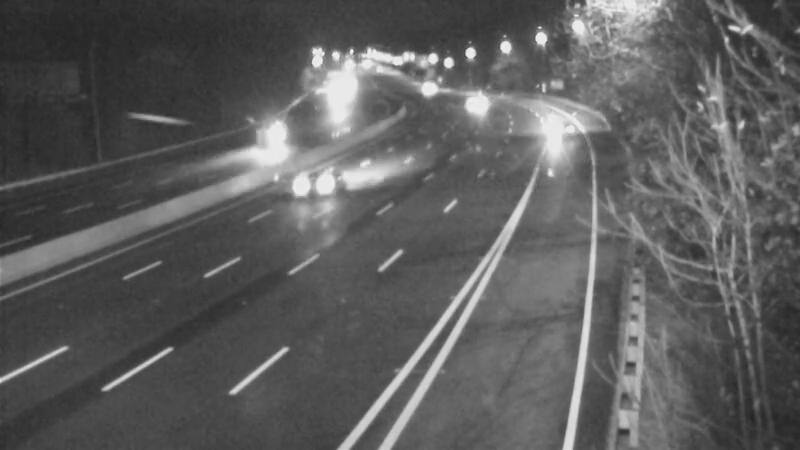vehicle: (273, 148, 353, 228), (397, 66, 447, 116), (446, 80, 496, 130), (532, 103, 582, 153), (246, 105, 296, 155), (311, 72, 361, 122)
